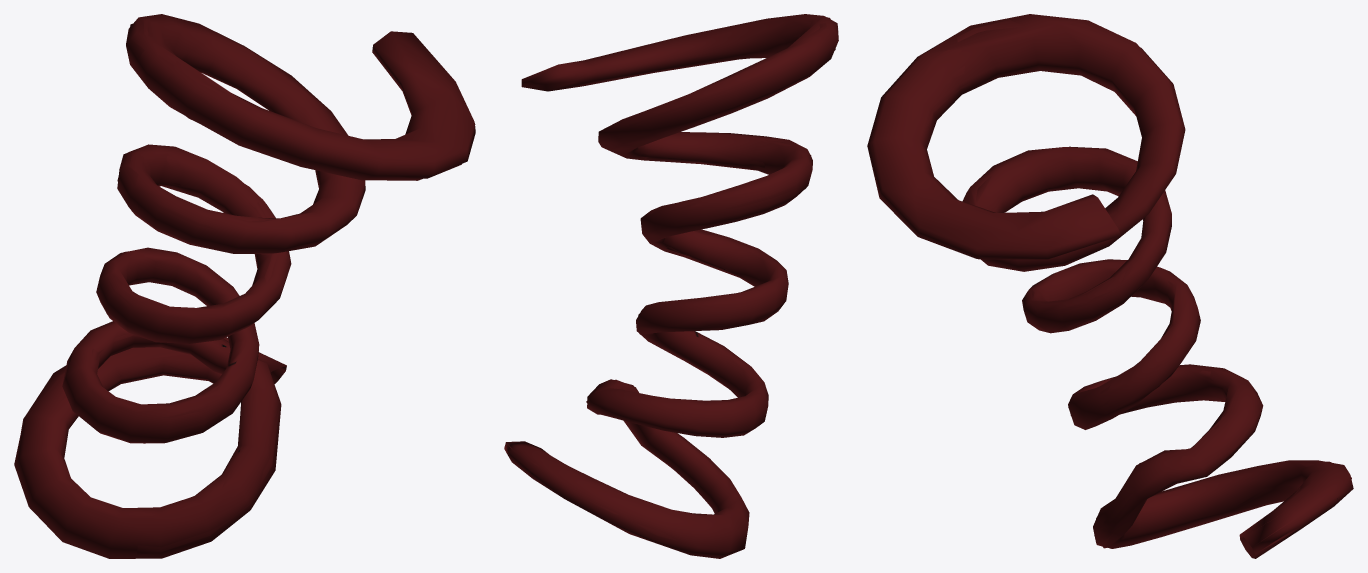
Rendered from sprezyna_Baked.001.fbx.
3 views of the same model, side by side, from view 1: azimuth 30°, elevation 25°; view 2: azimuth 150°, elevation 25°; view 3: azimuth 270°, elevation 25° (orthographic). The views are drawn at different scales.
Parts seen in each view (by area): view 1: sprezyna_Baked.001_Baked; view 2: sprezyna_Baked.001_Baked; view 3: sprezyna_Baked.001_Baked.
Boxes of the visible parts, left/top/right/bottom form: sprezyna_Baked.001_Baked: left=14, top=14, right=475, bottom=558; sprezyna_Baked.001_Baked: left=504, top=14, right=838, bottom=558; sprezyna_Baked.001_Baked: left=867, top=14, right=1353, bottom=558.
Size of the model in its own units: 38.17 by 62.7 by 54.14.
Materials: 1 (1 with a texture image).
